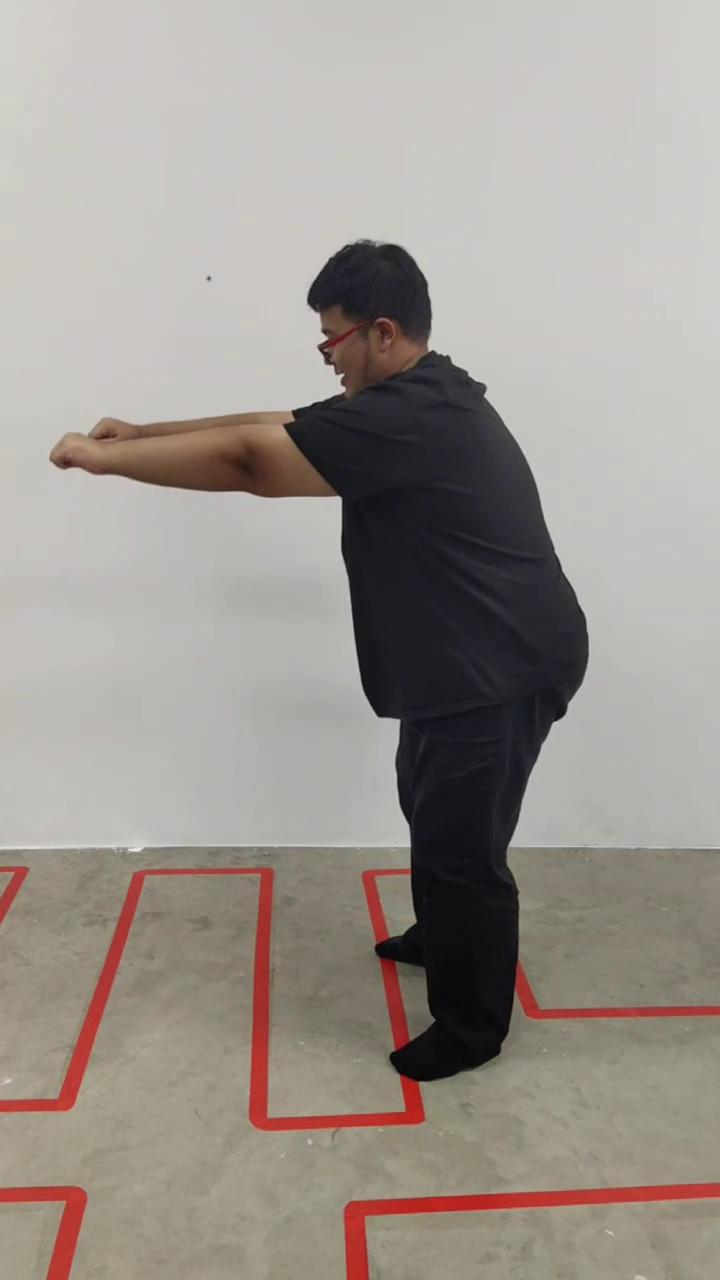squat up: (53, 238, 589, 1076)
